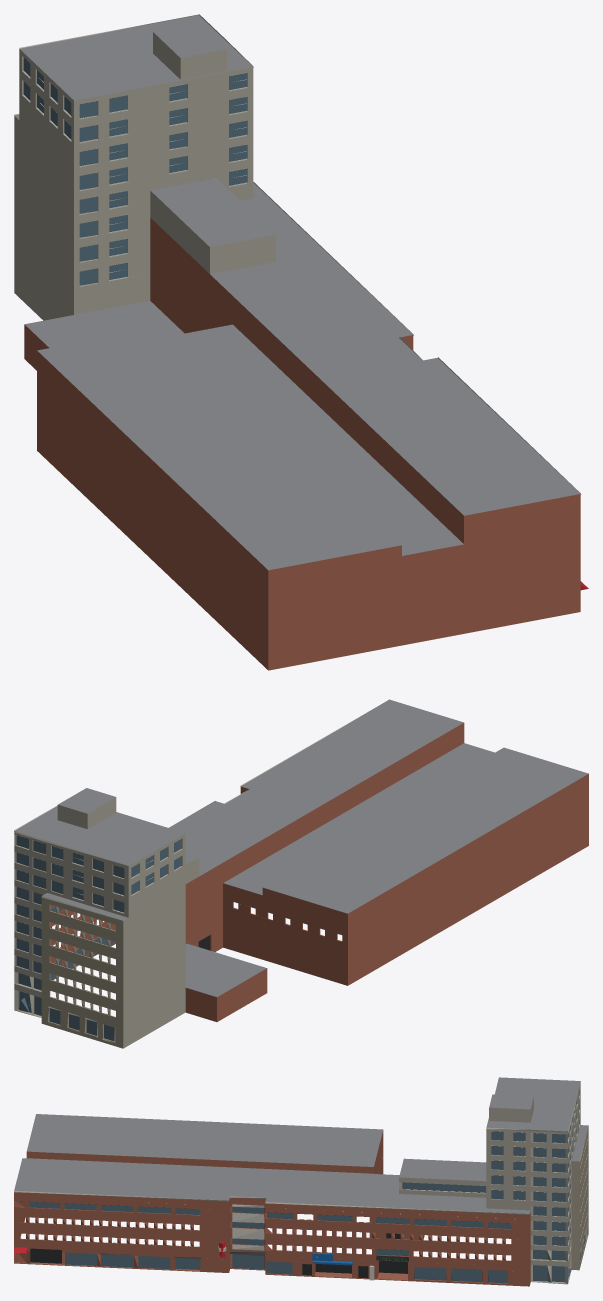
File: heinekenplein-block.lod1.glb
The picture shows the model from 3 angles, top to bottom: view 1: azimuth 30°, elevation 25°; view 2: azimuth 150°, elevation 25°; view 3: azimuth 270°, elevation 25°; orthographic projection. The views are drawn at different scales.
Visible parts, largest first — view 1: heinekenplein-block; view 2: heinekenplein-block; view 3: heinekenplein-block.
Part boxes in pixels (x1=…): heinekenplein-block: x1=14, y1=14, x2=588, y2=670; heinekenplein-block: x1=14, y1=699, x2=588, y2=1048; heinekenplein-block: x1=14, y1=1077, x2=588, y2=1286.
Bounding box in the file's own units: 50.47 × 35.11 × 110.
